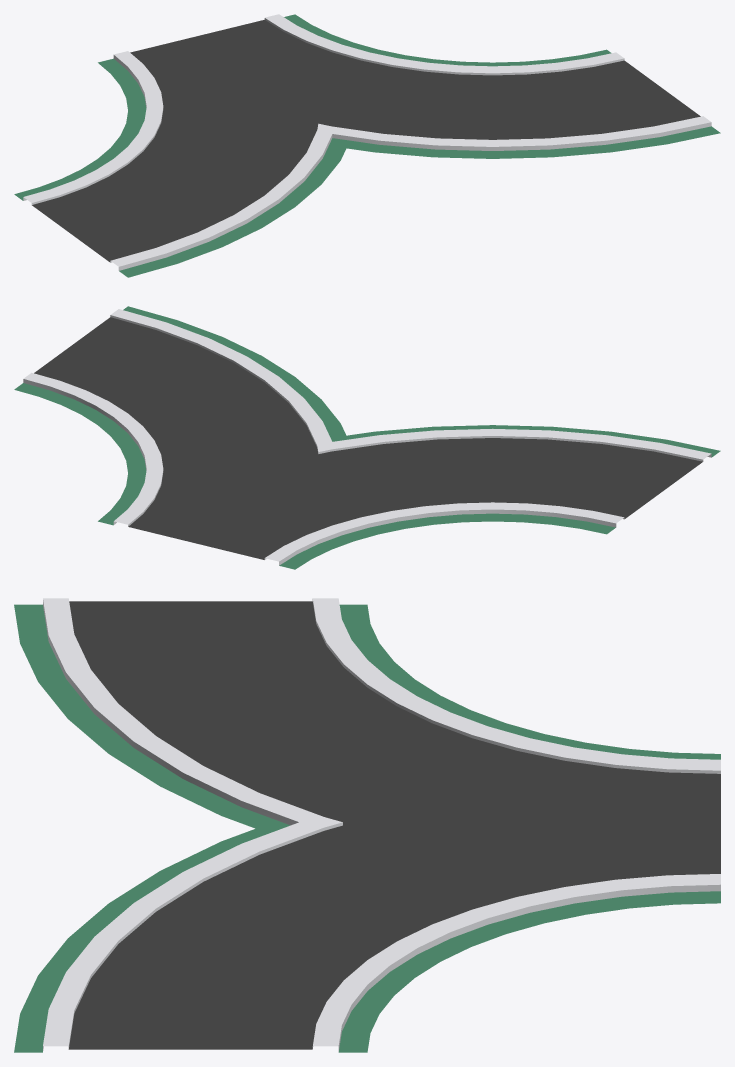
Rendered from roadSplitRound.obj.
The picture shows the model from 3 angles, top to bottom: view 1: azimuth 30°, elevation 25°; view 2: azimuth 150°, elevation 25°; view 3: azimuth 270°, elevation 25°; orthographic projection. The views are drawn at different scales.
Parts seen in each view (by area): view 1: roadSplitRound; view 2: roadSplitRound; view 3: roadSplitRound.
Part boxes in pixels (x1,y1,x2,y2): roadSplitRound: (14, 14, 720, 277); roadSplitRound: (14, 306, 720, 569); roadSplitRound: (14, 598, 720, 1052).
Bounding box in the file's own units: 3 × 0.02 × 2.
